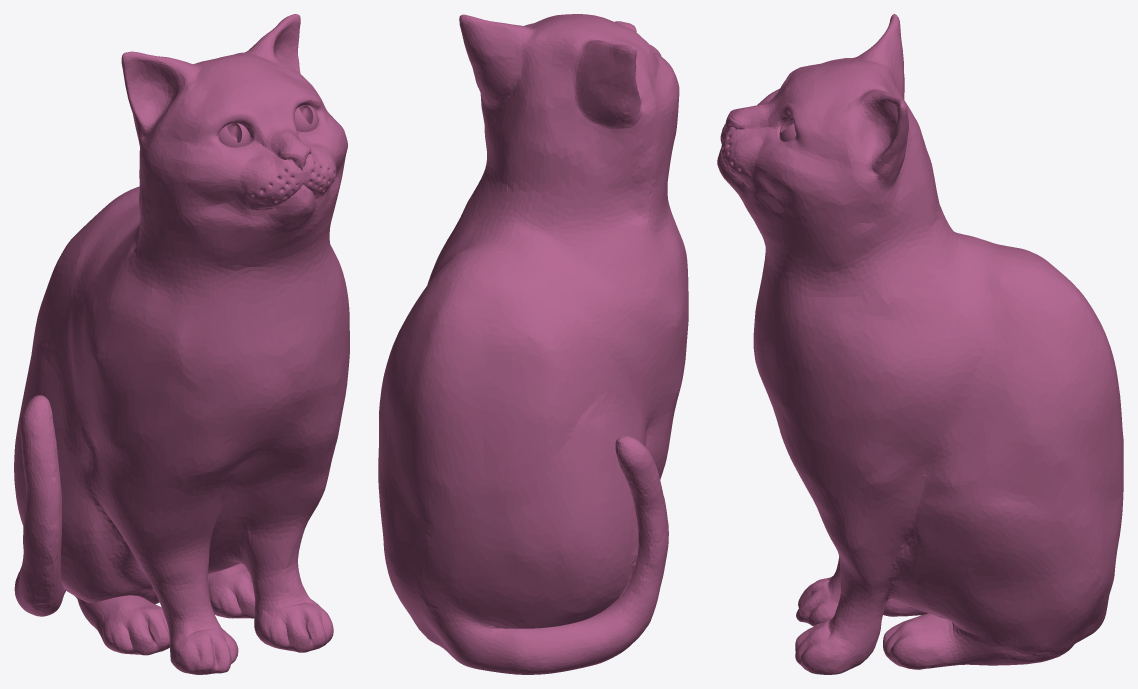
Rendered from cat3.obj.
3 renders of one model, left to right at view 1: azimuth 30°, elevation 25°; view 2: azimuth 150°, elevation 25°; view 3: azimuth 270°, elevation 25°, orthographic. The views are drawn at different scales.
Parts seen in each view (by area): view 1: cat; view 2: cat; view 3: cat.
Part boxes in pixels (x1=…): cat: x1=14, y1=14, x2=349, y2=674; cat: x1=378, y1=14, x2=688, y2=674; cat: x1=717, y1=14, x2=1123, y2=674.
Size of the model in its own units: 1.4 by 2.96 by 1.87.
